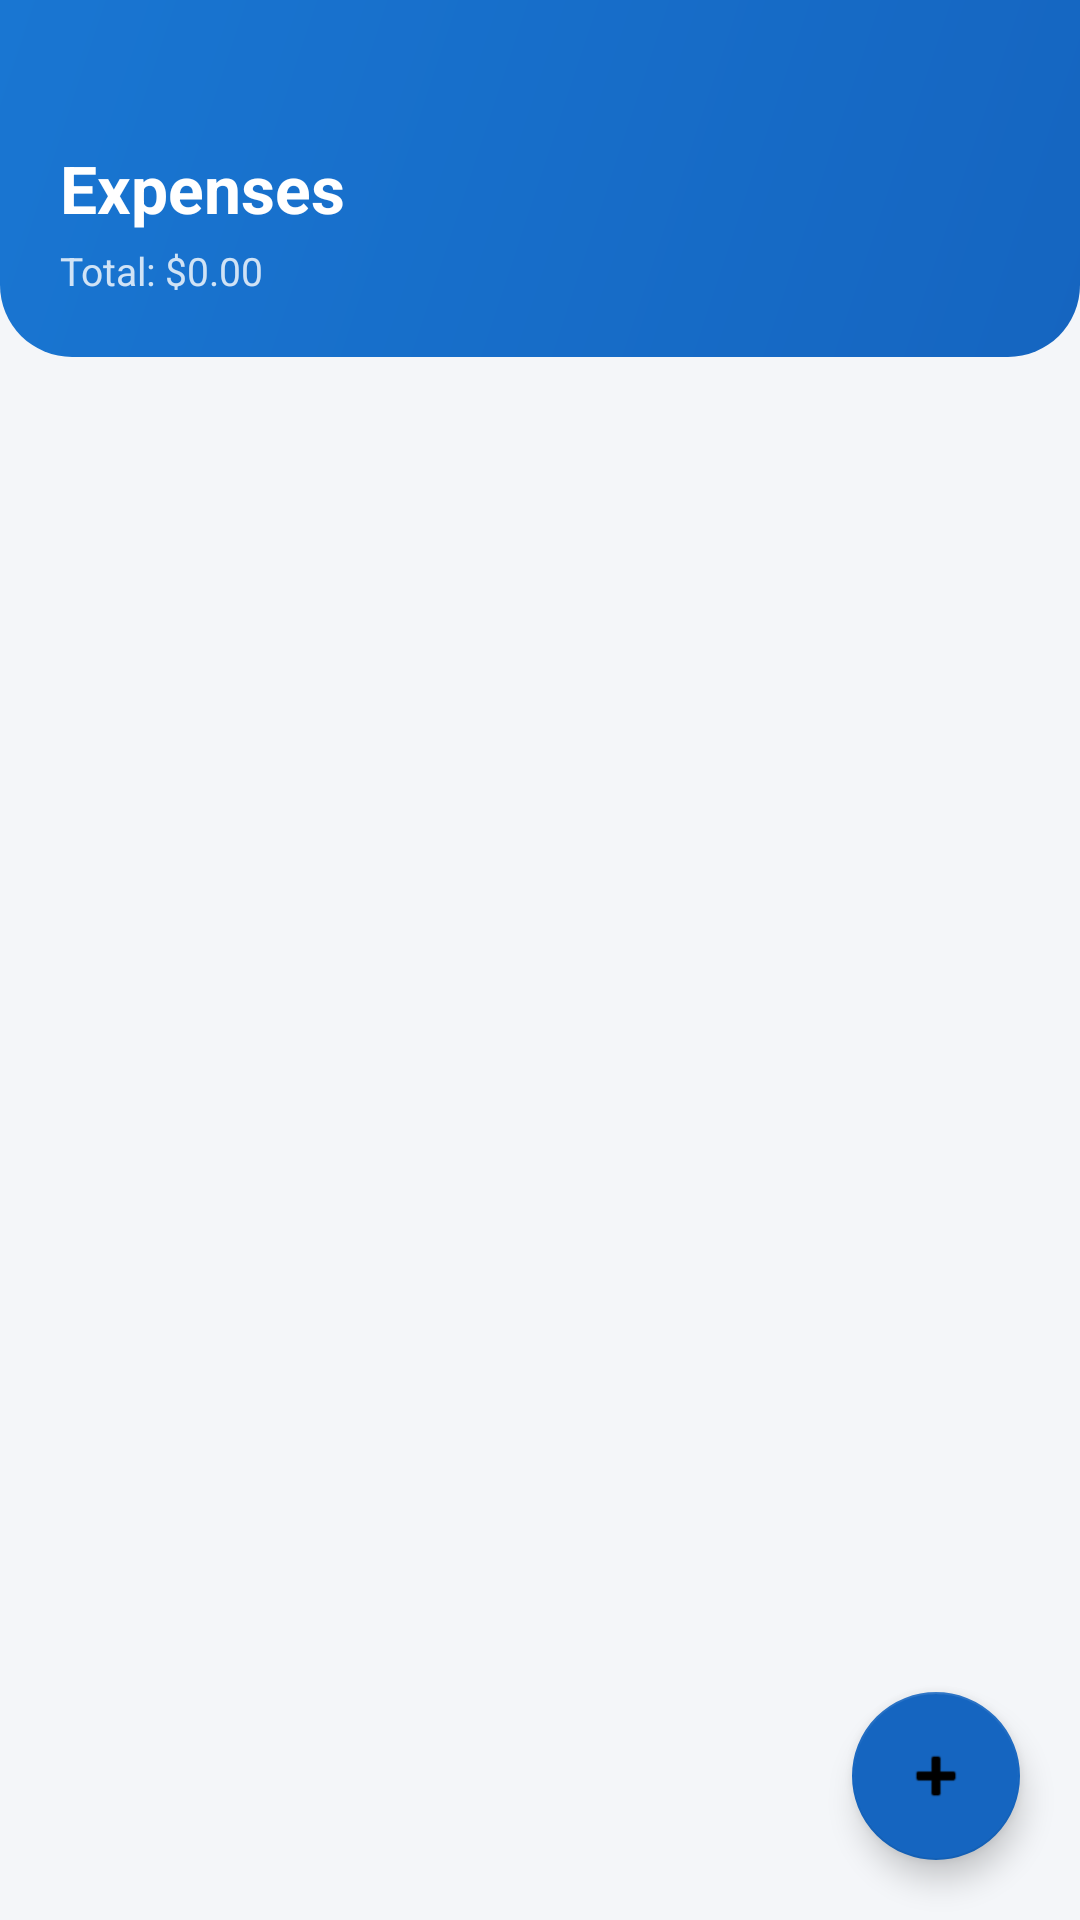

Named icons in this screenshot (1080×1920) and their centers, point (x, y):
Add Expense: point (936, 1776)
